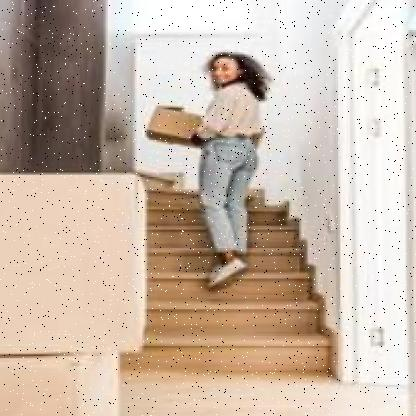stair_up: (143, 207, 330, 379)
